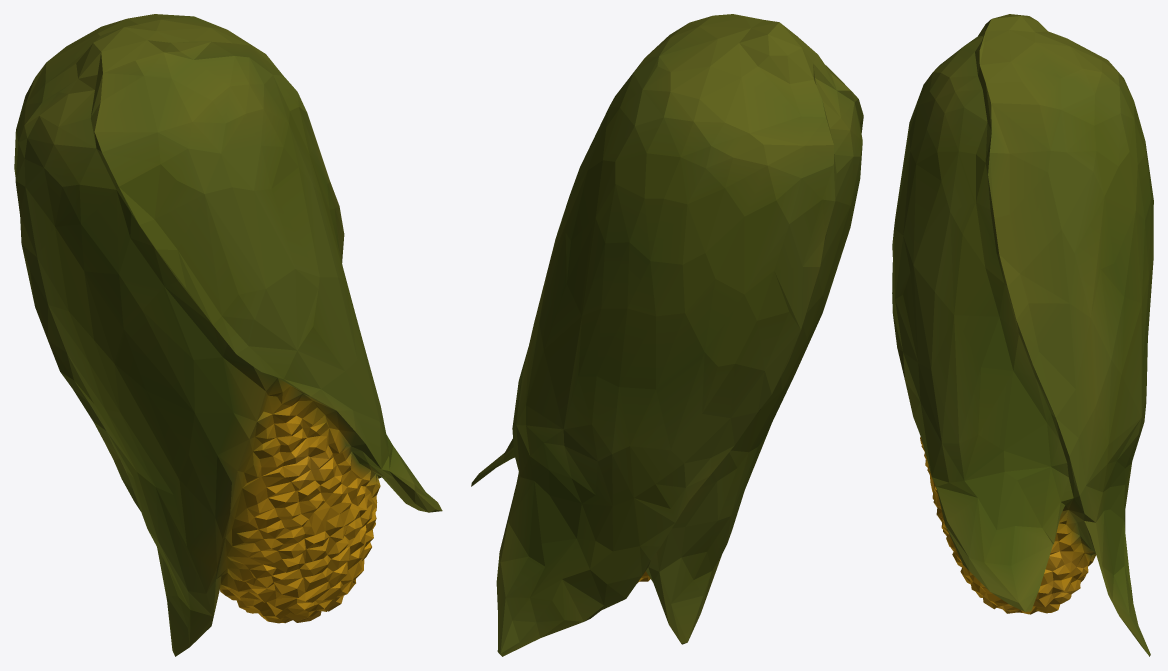
The model's file is corn.glb.
3 renders of one model, left to right at view 1: azimuth 30°, elevation 25°; view 2: azimuth 150°, elevation 25°; view 3: azimuth 270°, elevation 25°, orthographic. The views are drawn at different scales.
Visible parts, largest first — view 1: geometry_0; view 2: geometry_0; view 3: geometry_0.
Boxes of the visible parts, x1,y1,x2,y2 form: geometry_0: (14, 14, 442, 656); geometry_0: (471, 14, 863, 656); geometry_0: (892, 14, 1153, 656).
Size of the model in its own units: 0.9632 by 1.5 by 0.6413.
